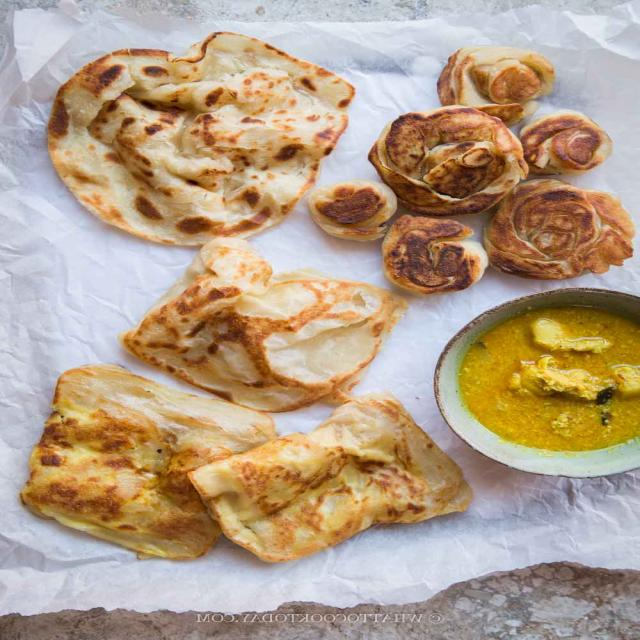Paratha: (23, 33, 376, 246), (2, 358, 274, 547), (200, 388, 444, 571), (125, 251, 412, 395)
